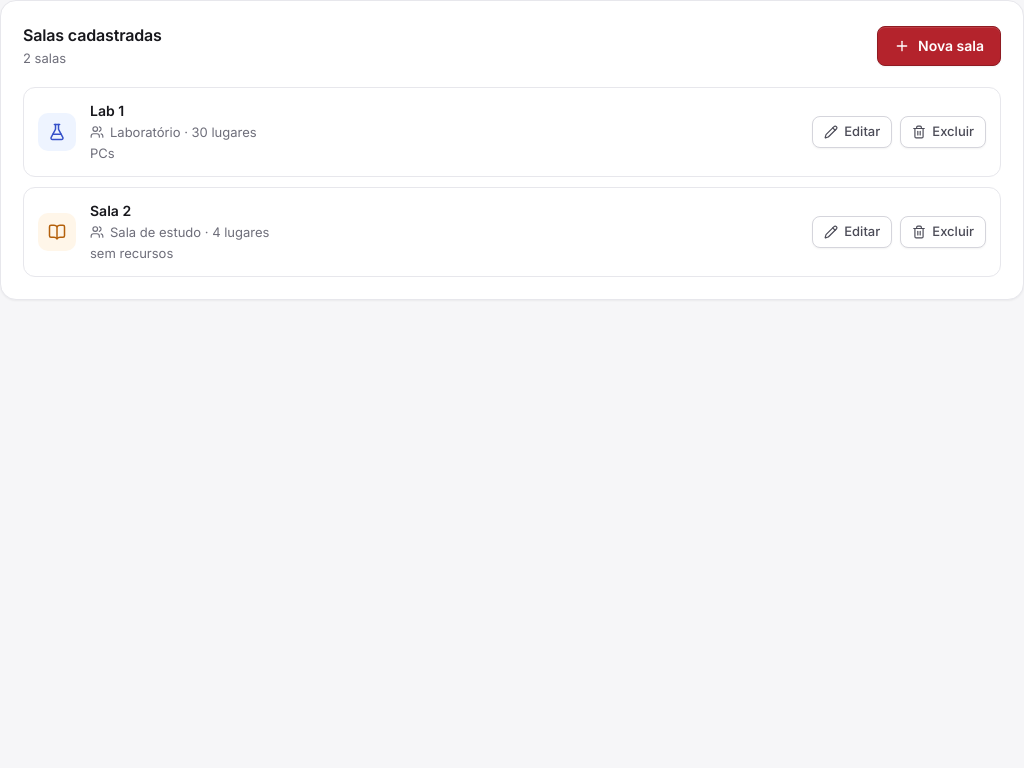
AdminSalas › exclui depois de confirmar, avisando que as reservas também serão excluídas
Click the button with aria-label "Excluir Lab 1".
click(943, 132)  # box left=900, top=116, right=986, bottom=148
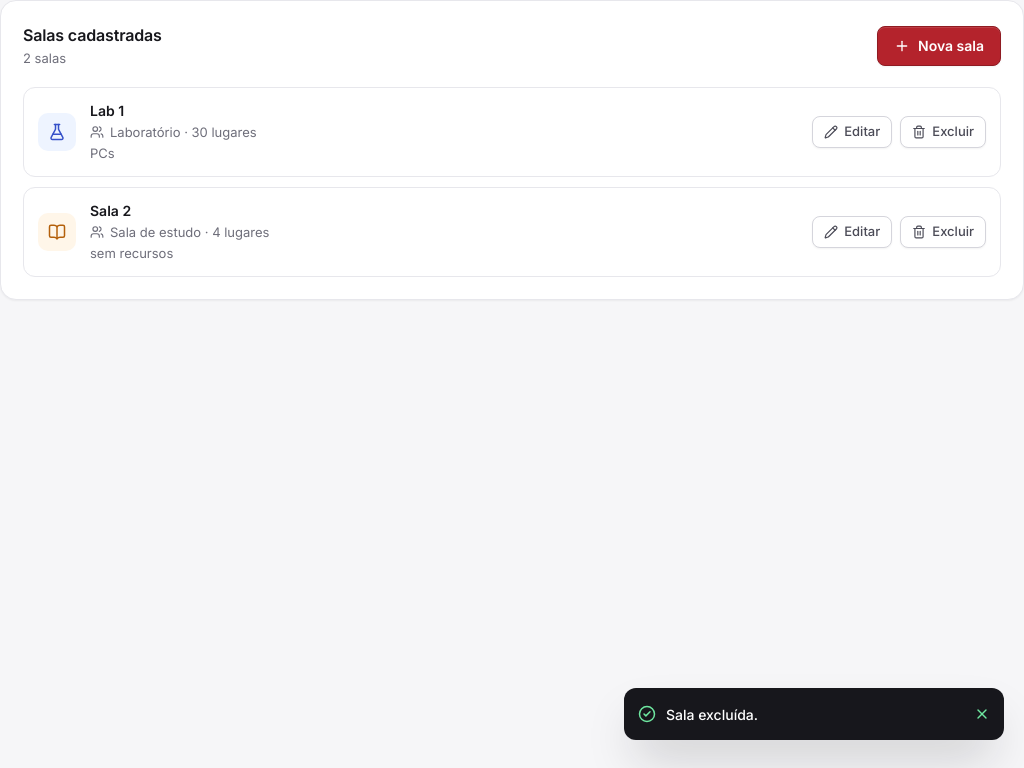
Expected: the text "Sala excluída." is shown, left=666, top=706, right=758, bottom=722
